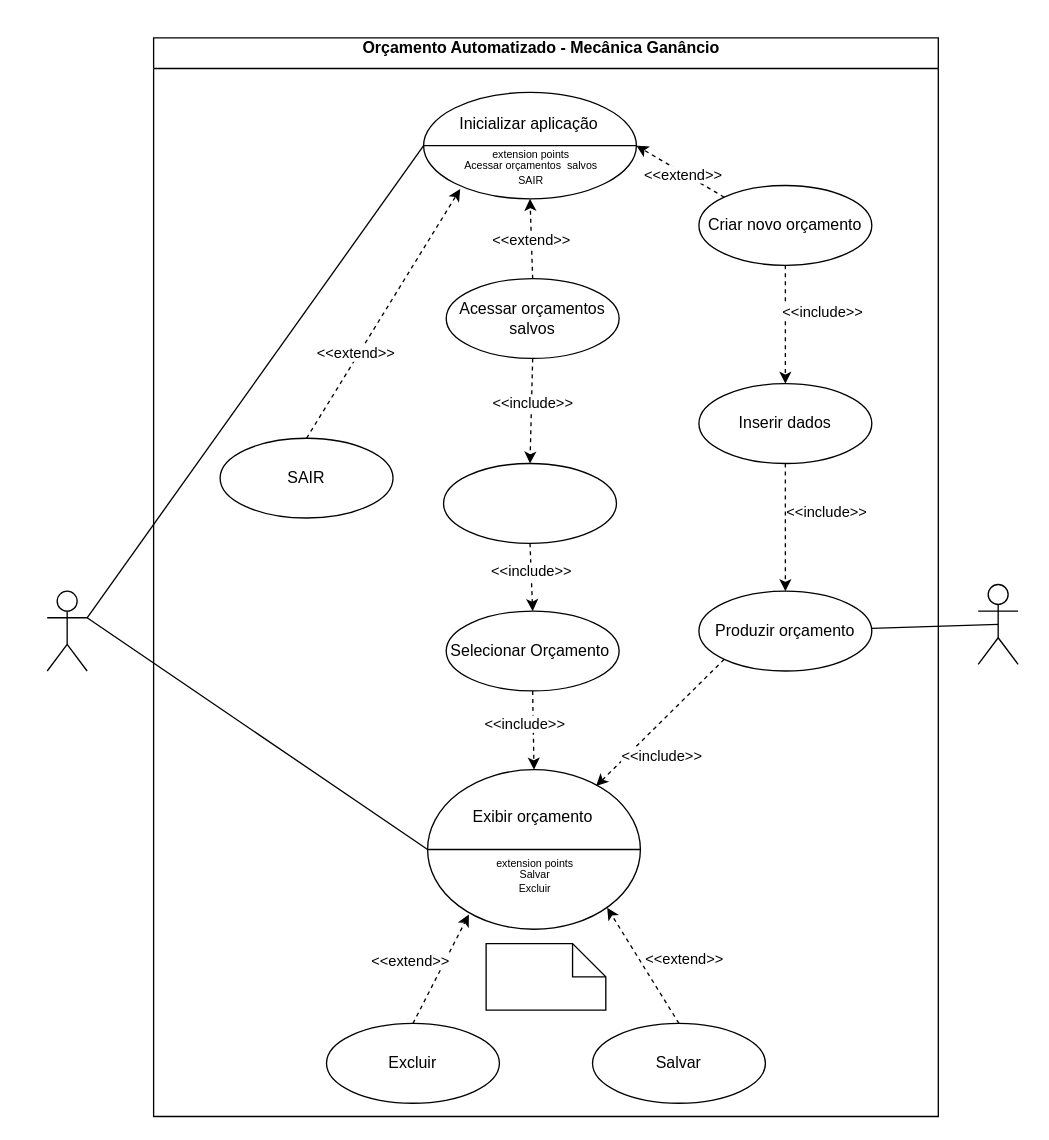
Image size: 1049x1140. Some labels were removed from this diagram. Here are the shapes that lost their labels. From the top down, the box of each, then its label:
(442, 462, 616, 543): Pesquisar Orçamentos
(46, 590, 87, 671): Funcionário
(977, 583, 1018, 664): Sistema
(485, 942, 606, 1010): Caso seja novo orçamento
